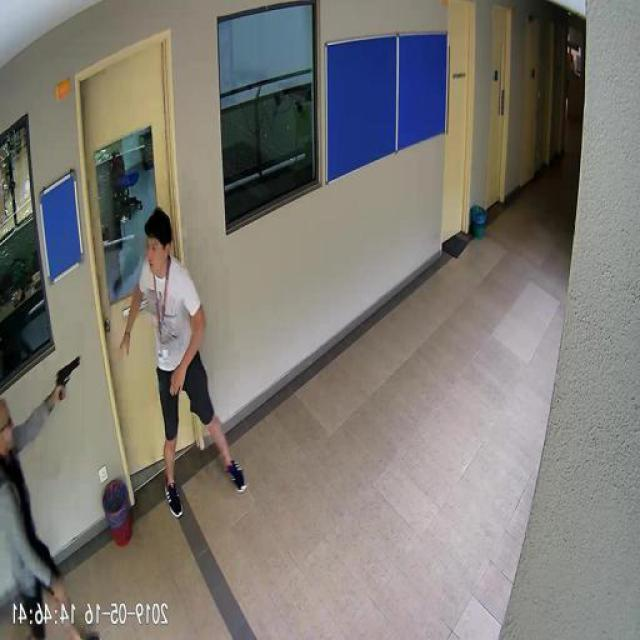weapon: (52, 354, 82, 402)
